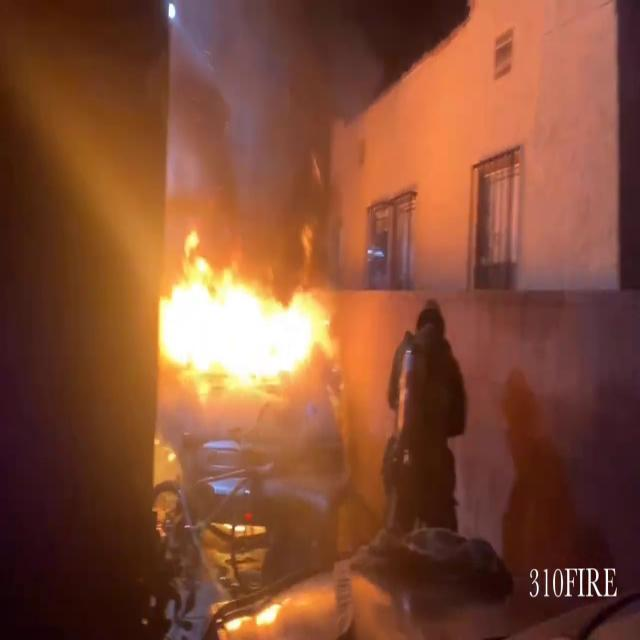Fire: (146, 239, 342, 398)
